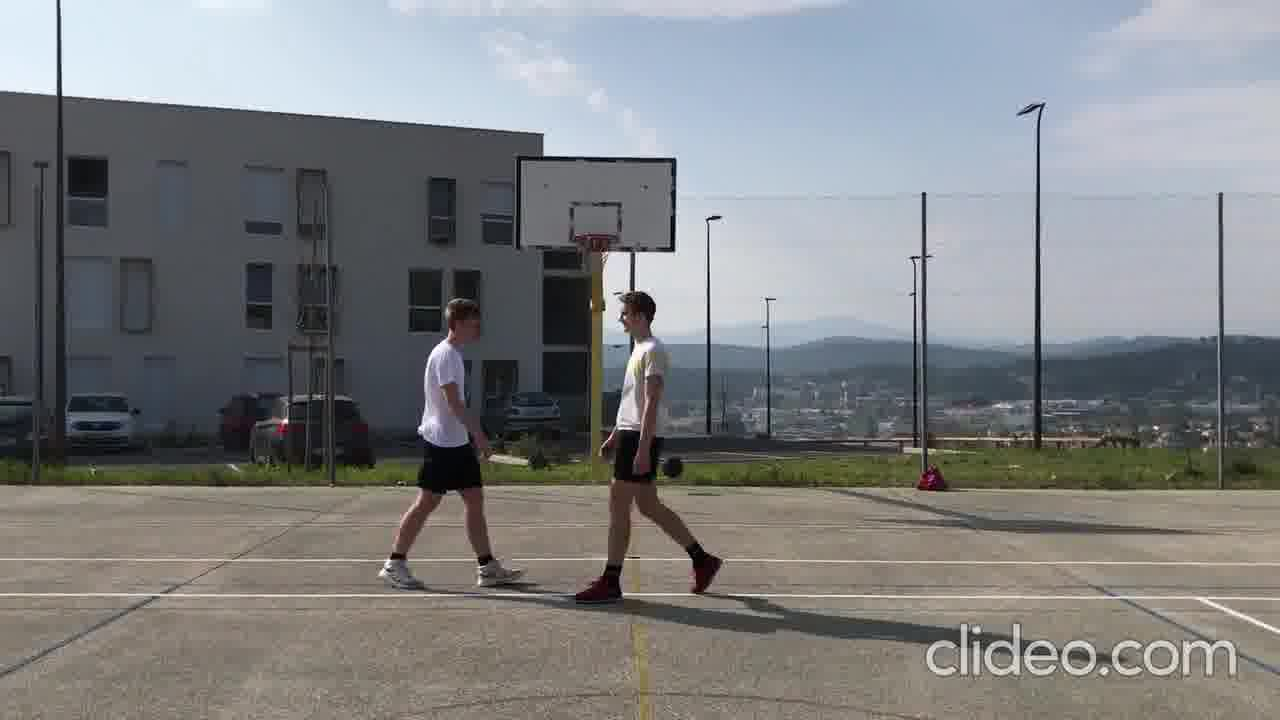jugador: (554, 284, 734, 614)
